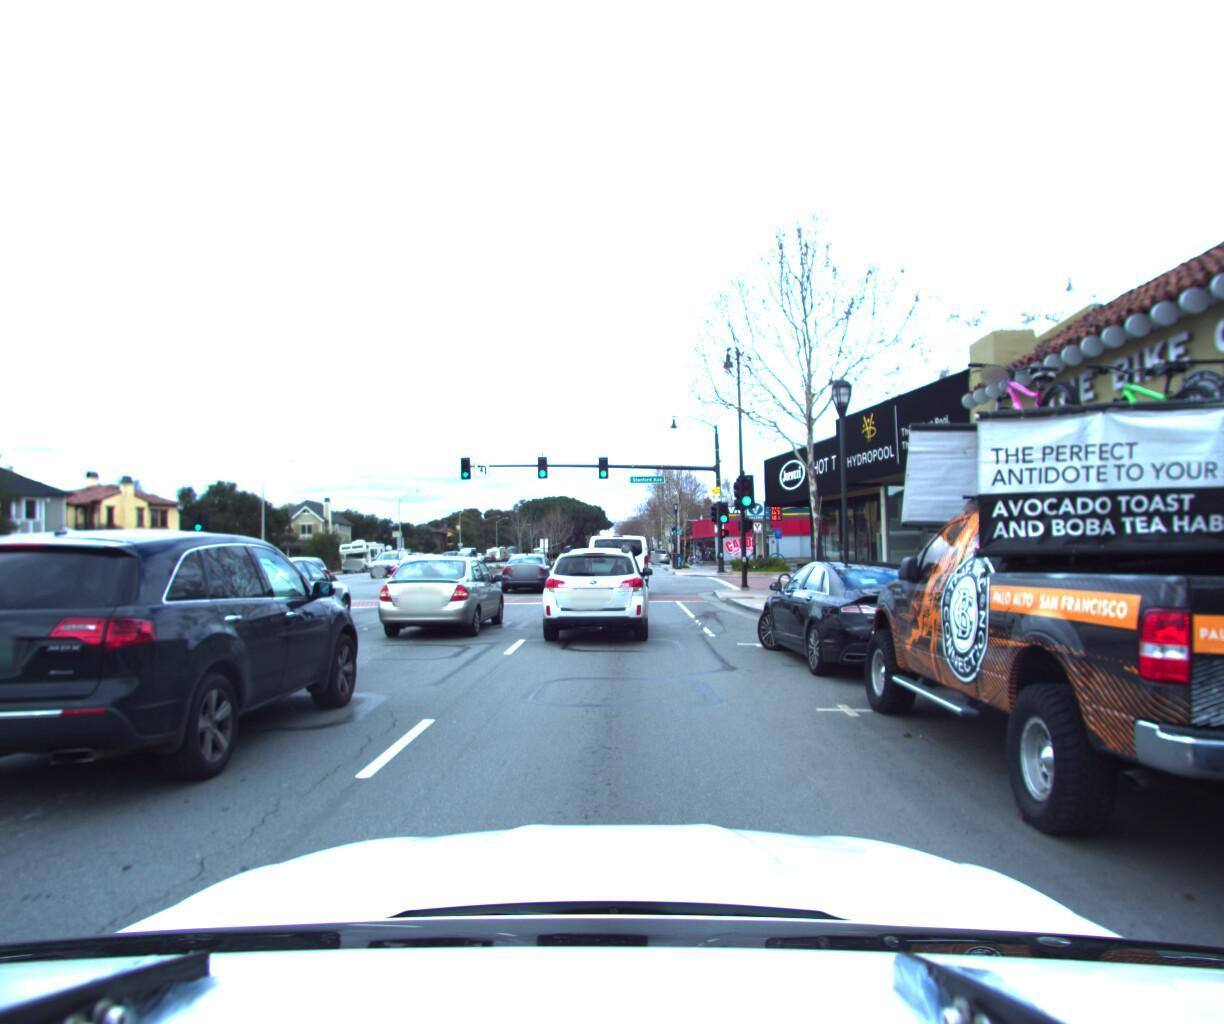car: (840, 166, 1224, 946), (0, 510, 380, 838), (750, 551, 993, 699), (0, 525, 97, 859), (176, 555, 370, 651), (0, 548, 93, 692), (538, 538, 658, 648), (377, 554, 517, 645), (586, 531, 652, 603), (385, 549, 465, 600), (497, 550, 564, 594), (364, 548, 417, 579), (655, 548, 675, 566)
other_vehicle: (338, 539, 394, 576)
